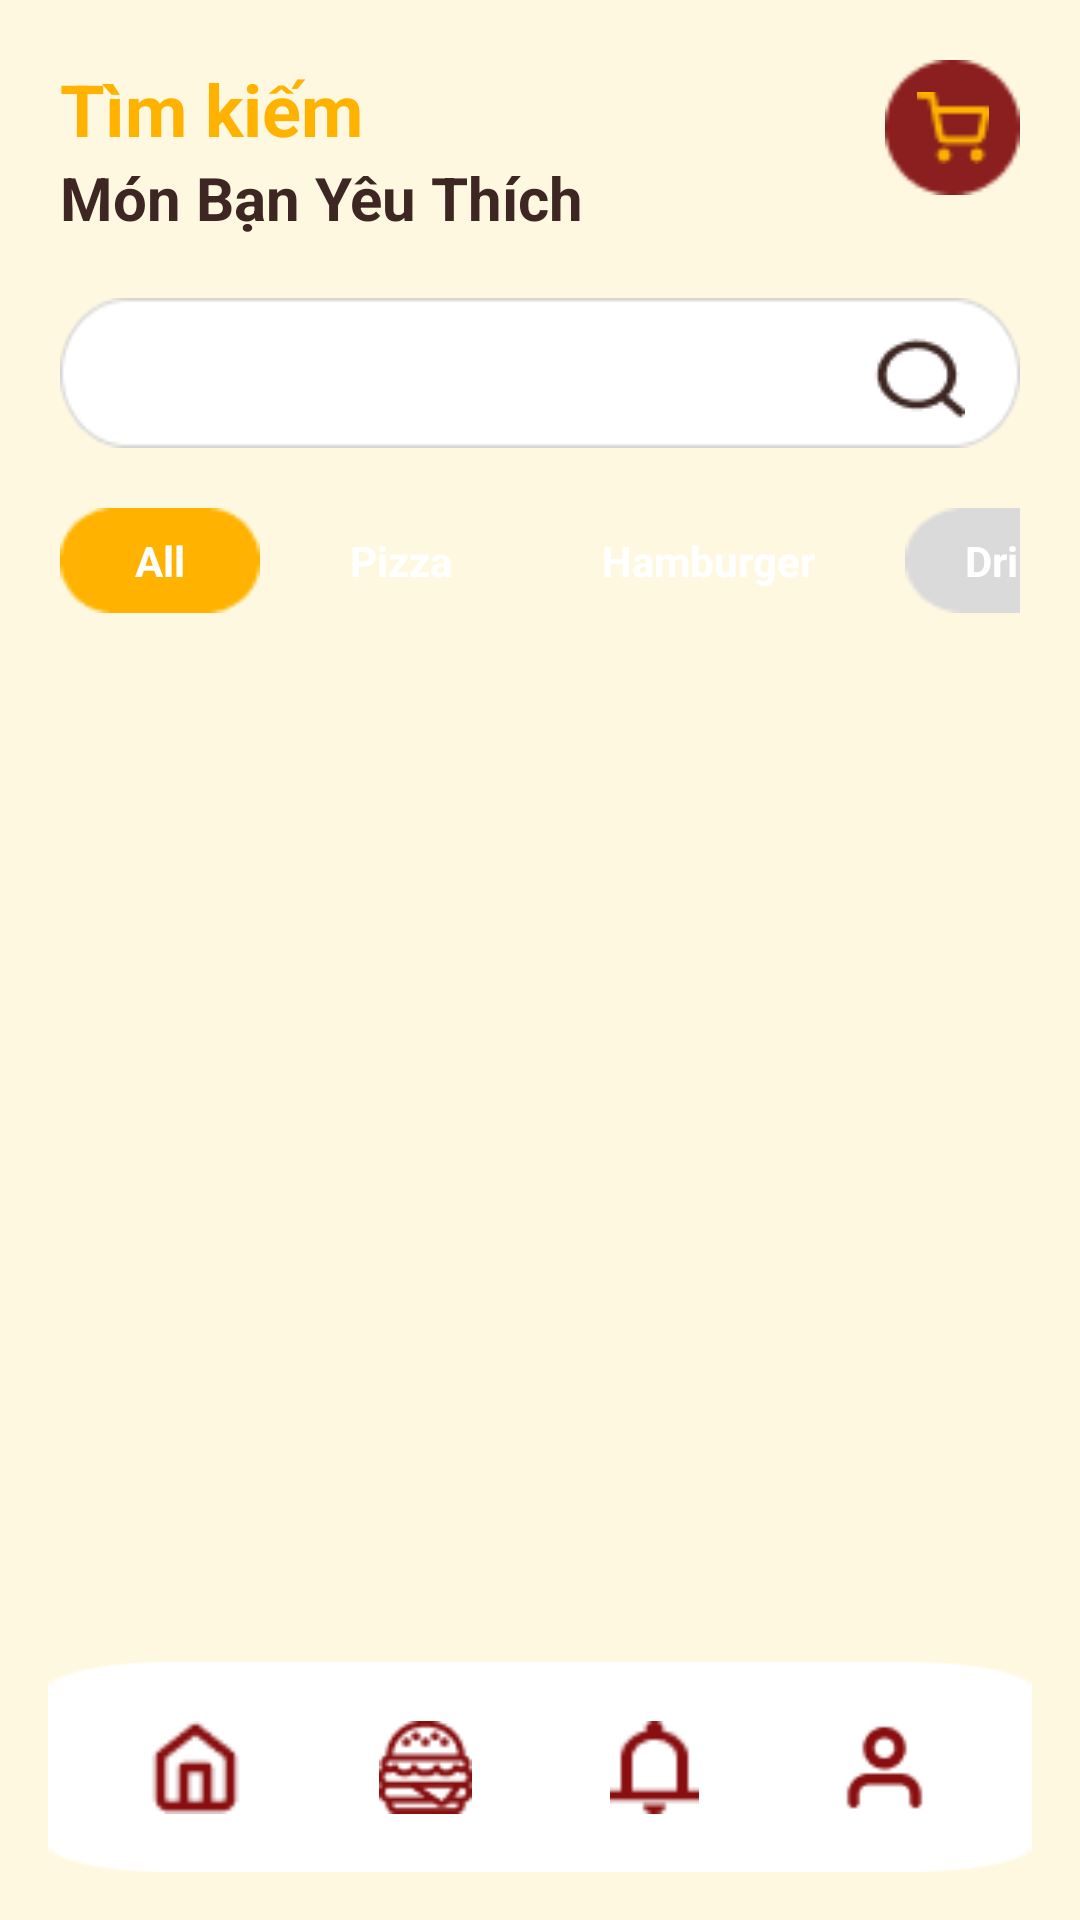

Icon click points for this 1080px x 1920px phone screenshot, format (x,y):
search: (920,378)
Thông báo: (654,1767)
Trang chủ: (195,1767)
Tài khoản: (884,1767)
Đồ ăn: (425,1767)
